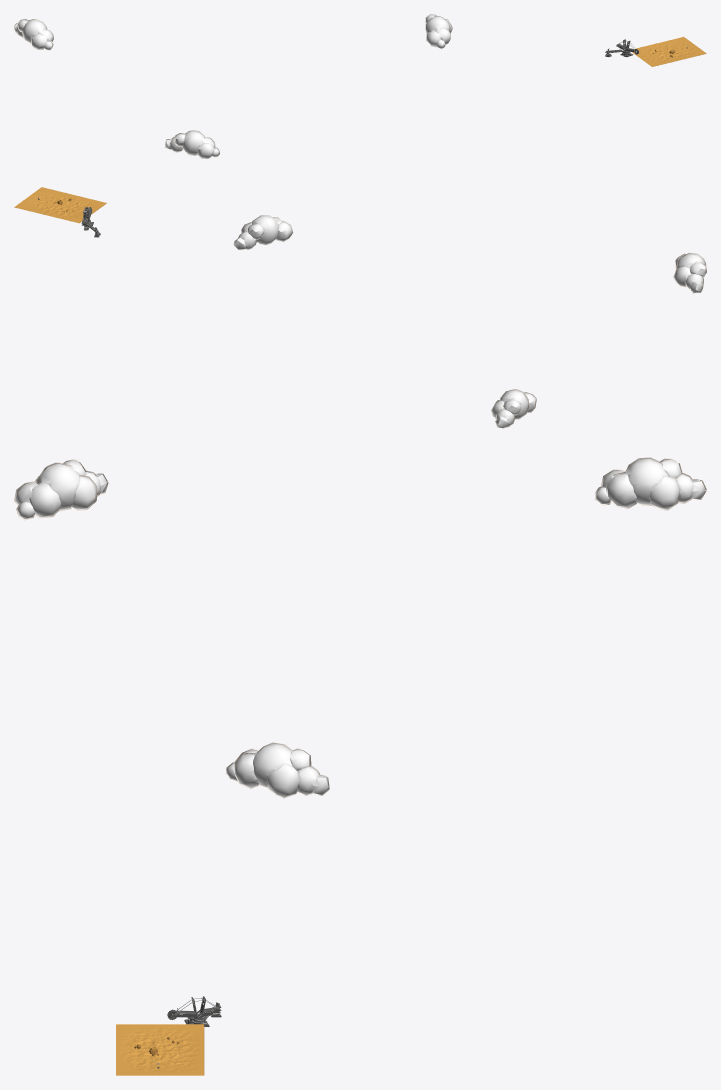
The picture shows the model from 3 angles, top to bottom: view 1: azimuth 30°, elevation 25°; view 2: azimuth 150°, elevation 25°; view 3: azimuth 270°, elevation 25°; orthographic projection. The views are drawn at different scales.
Visible parts, largest first — view 1: Landscape.002, Object_2.002, Object_2.001, Object_2, Object_3; view 2: Landscape.002, Object_2, Object_2.001, Object_2.002; view 3: Landscape.002, Object_2.001, Object_2, Object_2.002.
Boxes of the visible parts, x1=… form: Landscape.002: x1=632, y1=37, x2=706, y2=66; Object_2.002: x1=164, y1=130, x2=219, y2=158; Object_2.001: x1=14, y1=19, x2=53, y2=50; Object_2: x1=425, y1=14, x2=452, y2=49; Object_3: x1=605, y1=39, x2=638, y2=57; Landscape.002: x1=14, y1=187, x2=106, y2=223; Object_2: x1=233, y1=215, x2=293, y2=250; Object_2.001: x1=491, y1=389, x2=536, y2=428; Object_2.002: x1=673, y1=253, x2=706, y2=293; Landscape.002: x1=116, y1=1024, x2=204, y2=1075; Object_2.001: x1=595, y1=457, x2=706, y2=510; Object_2: x1=225, y1=742, x2=329, y2=798; Object_2.002: x1=14, y1=459, x2=108, y2=520.
Bounding box in the file's own units: 645 × 75.06 × 371.
